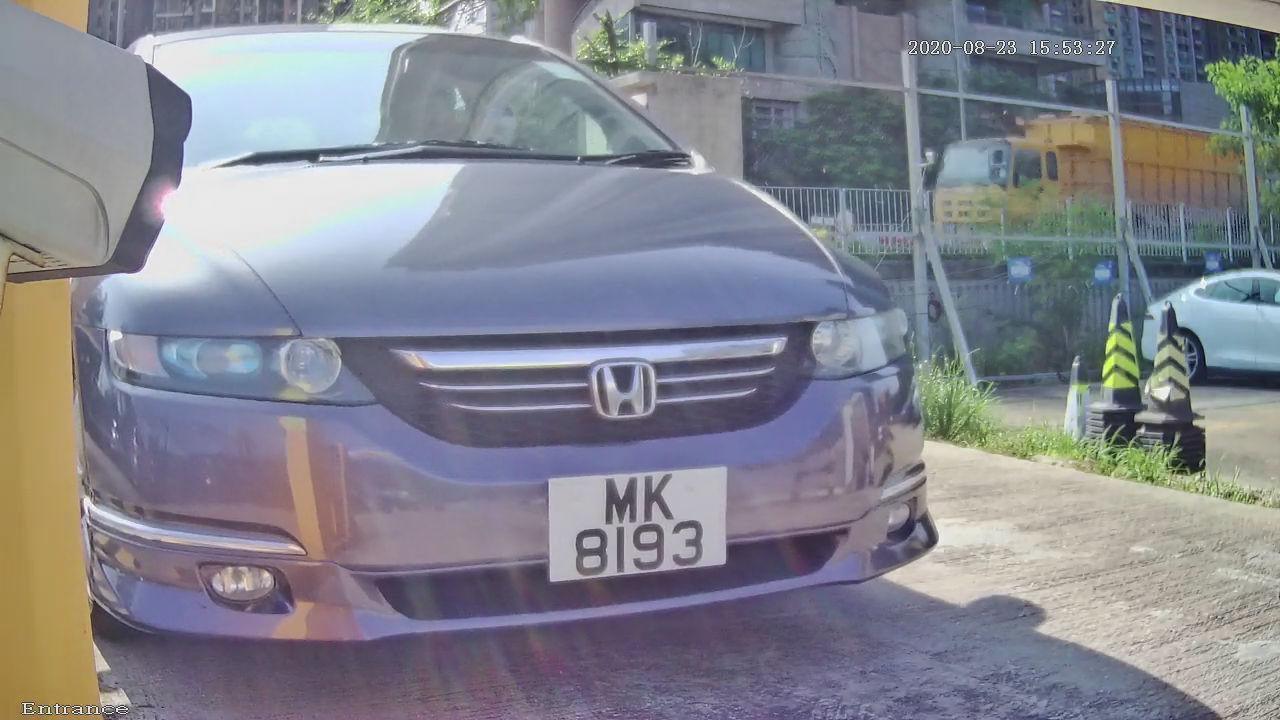Car: (1, 4, 1018, 711)
License Plate: (526, 457, 738, 595)
